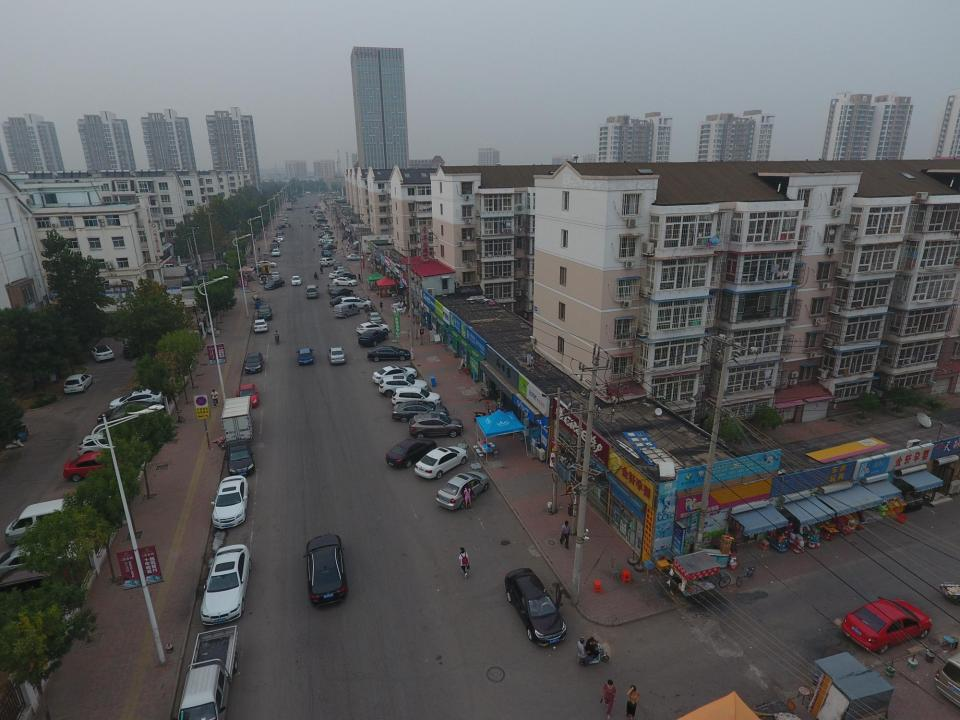car: (840, 594, 934, 654), (504, 566, 568, 646), (198, 544, 252, 626), (0, 534, 96, 570), (302, 534, 347, 608), (208, 474, 250, 528), (436, 471, 490, 510), (63, 451, 129, 482), (414, 446, 468, 480), (219, 395, 256, 442), (77, 432, 142, 457), (385, 437, 437, 467), (408, 412, 463, 439), (96, 401, 161, 423), (391, 400, 449, 422), (108, 388, 168, 408), (224, 438, 255, 476), (377, 376, 429, 397), (391, 387, 441, 408), (367, 344, 411, 362), (372, 365, 417, 382), (63, 374, 94, 394), (235, 383, 259, 408), (358, 330, 389, 346), (89, 344, 115, 362), (357, 321, 390, 335), (243, 351, 263, 373), (122, 338, 144, 358), (338, 297, 373, 308), (296, 348, 314, 366), (327, 347, 345, 365), (329, 295, 357, 306), (330, 286, 354, 298), (256, 304, 272, 320), (331, 277, 358, 286), (262, 279, 286, 289), (252, 319, 269, 333), (366, 312, 382, 324), (367, 253, 388, 262), (333, 272, 356, 280), (328, 270, 350, 278), (257, 260, 277, 268), (318, 258, 336, 266), (346, 253, 363, 261), (290, 275, 302, 286), (271, 270, 280, 280), (333, 261, 343, 270), (320, 252, 334, 258), (336, 266, 346, 273), (271, 251, 280, 256)
truck: (4, 491, 118, 545), (175, 624, 239, 720)
van: (0, 560, 67, 594), (92, 409, 158, 436), (933, 651, 960, 703), (332, 302, 361, 319), (305, 284, 319, 299), (259, 275, 268, 284)
